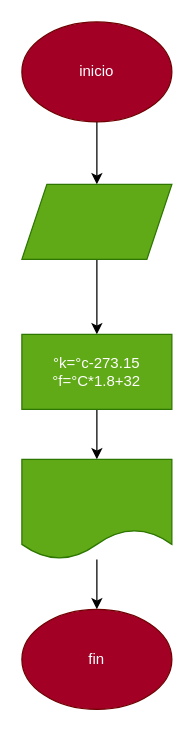
This 194x731 diagram has some shape labels left out. Each missing label, with the centre of its shape:
°c: [96,221]
°f,°k: [96,508]
